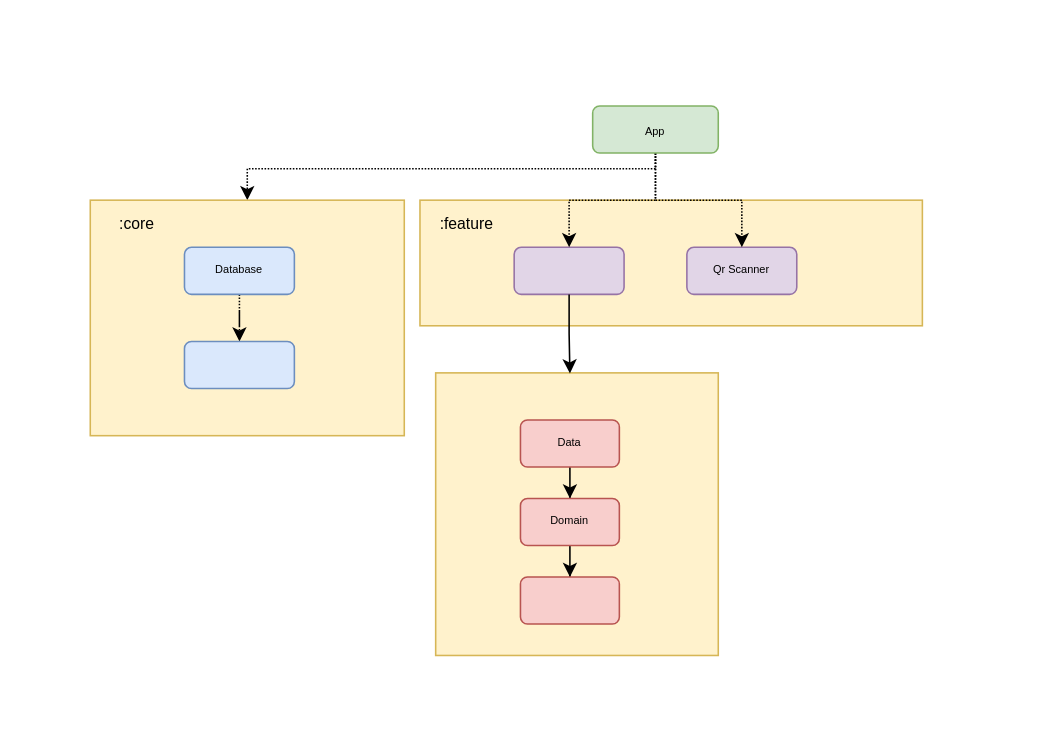
The diagram is 1042 pixels wide and 744 high, and some of its shapes have lost their labels. Each missing label, with the centre of its shape:
"Models" belongs at [238,364].
"Qr Generator" belongs at [568,270].
"Ui" belongs at [569,599].
